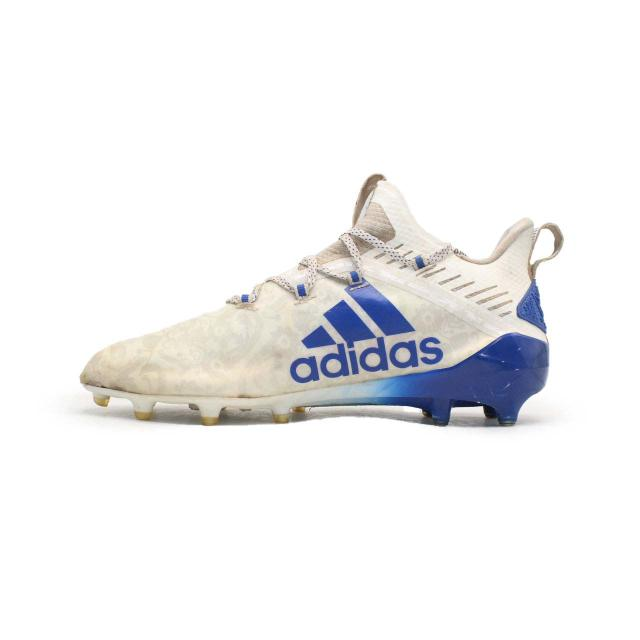heel: (504, 222, 560, 342)
midsole: (89, 336, 549, 427)
uppersole: (85, 170, 522, 395)
